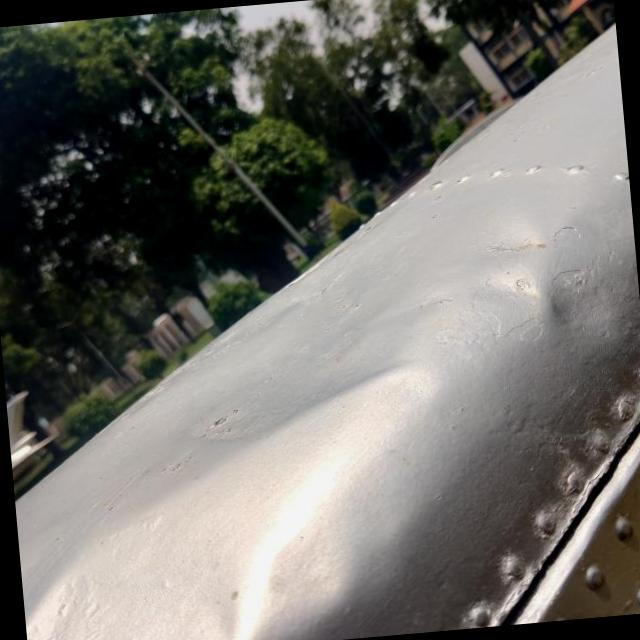dent: (131, 181, 477, 480), (525, 237, 640, 368)
